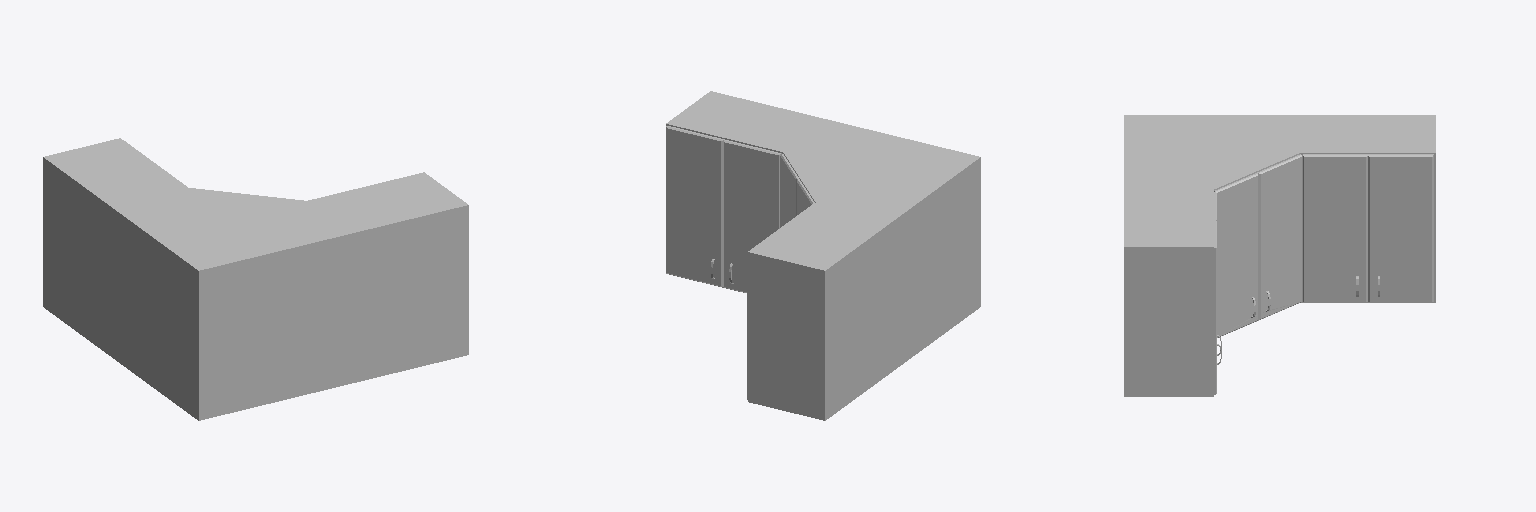
The model's file is CornerCabinet.obj.
The picture shows the model from 3 angles: view 1: azimuth 30°, elevation 25°; view 2: azimuth 150°, elevation 25°; view 3: azimuth 270°, elevation 25°; orthographic projection.
Parts seen in each view (by area): view 1: CornerCabinet; view 2: CornerCabinet; view 3: CornerCabinet.
Boxes of the visible parts, x1,y1,x2,y2 form: CornerCabinet: [43, 138, 468, 420]; CornerCabinet: [666, 91, 980, 420]; CornerCabinet: [1124, 115, 1435, 396].
Bounding box in the file's own units: 2.05 × 1.09 × 2.05.